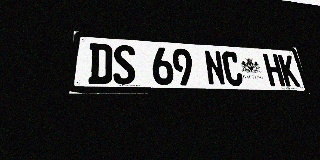6: (151, 47, 174, 85)
9: (172, 48, 195, 85)
C: (221, 51, 244, 86)
D: (88, 43, 112, 84)
H: (263, 54, 286, 87)
K: (278, 54, 300, 87)
N: (203, 50, 226, 86)
S: (113, 44, 136, 85)
